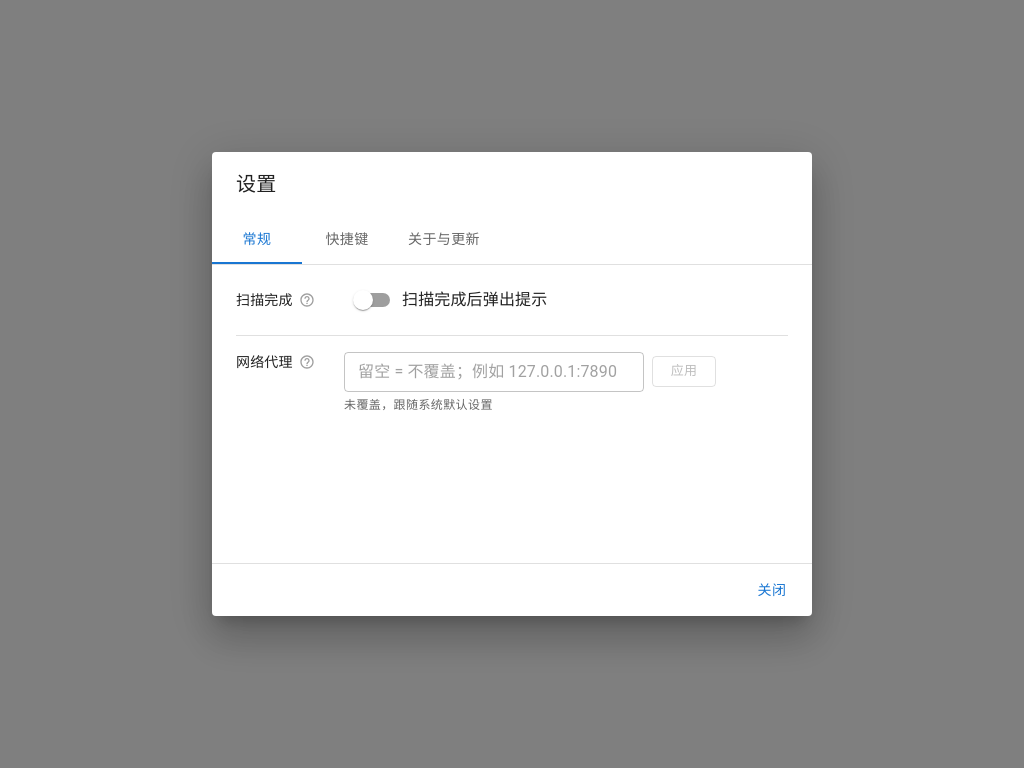
Test case: 设置对话框 · 常规分区 › 解释型长句收进问号图标，悬浮才展开正文
The image size is (1024, 768).
Hover over the button named "说明" next to "网络代理" at (307, 362), box [297,352,317,372]
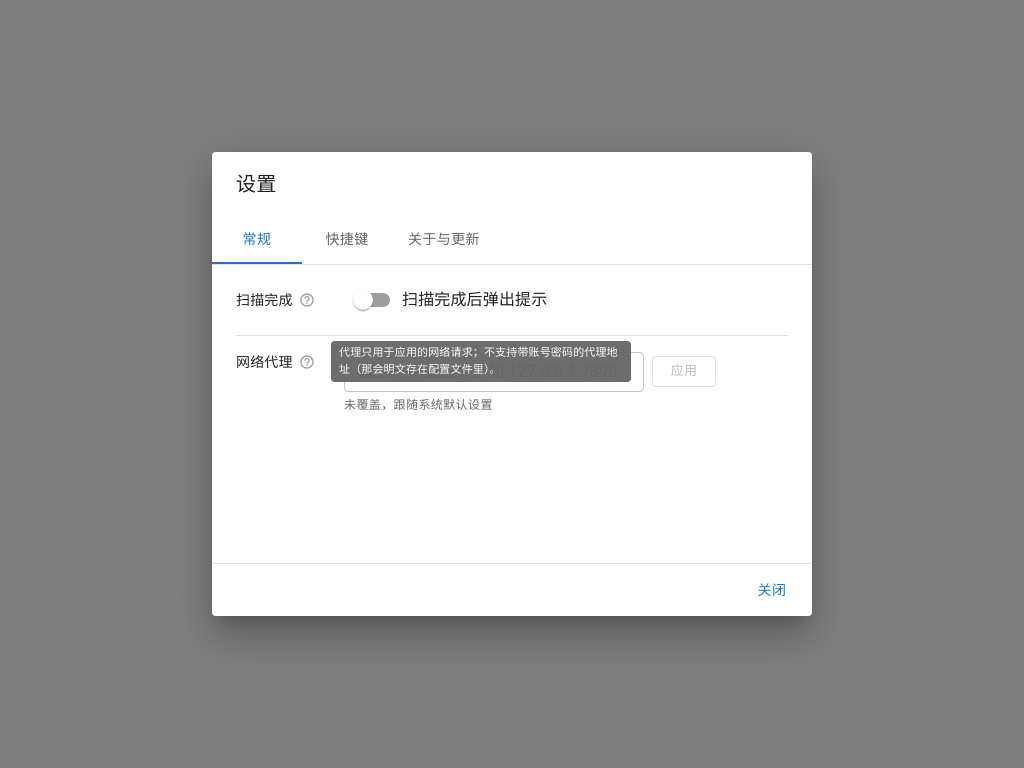
Result: the tooltip "代理只用于应用的网络请求；不支持带账号密码的代理地址（那会明文存在配置文件里）。" is shown at [317,339,633,384]
Result: the tooltip shows "代理只用于应用的网络请求" at [339,346,618,376]
